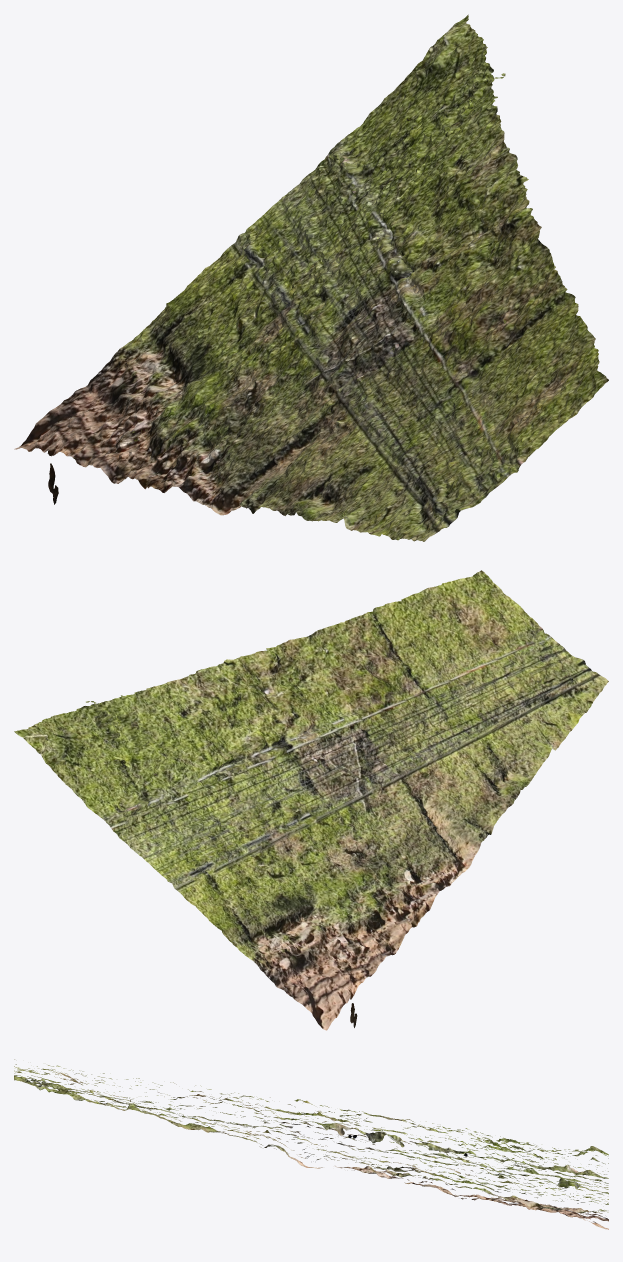
3 renders of one model, top to bottom at view 1: azimuth 30°, elevation 25°; view 2: azimuth 150°, elevation 25°; view 3: azimuth 270°, elevation 25°, orthographic. The views are drawn at different scales.
Size of the model in its own units: 4.88 by 3.59 by 7.63.
Materials: 2 (2 with a texture image).
